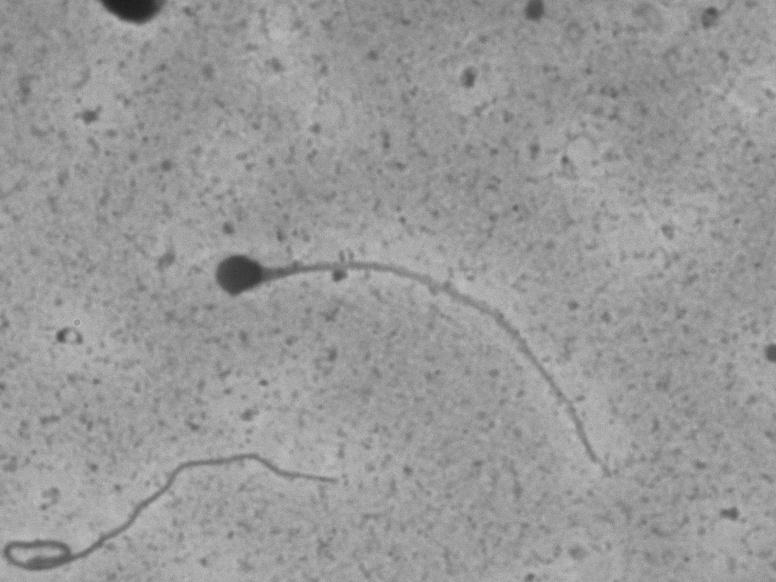Abnormal: (211, 198, 646, 444)
